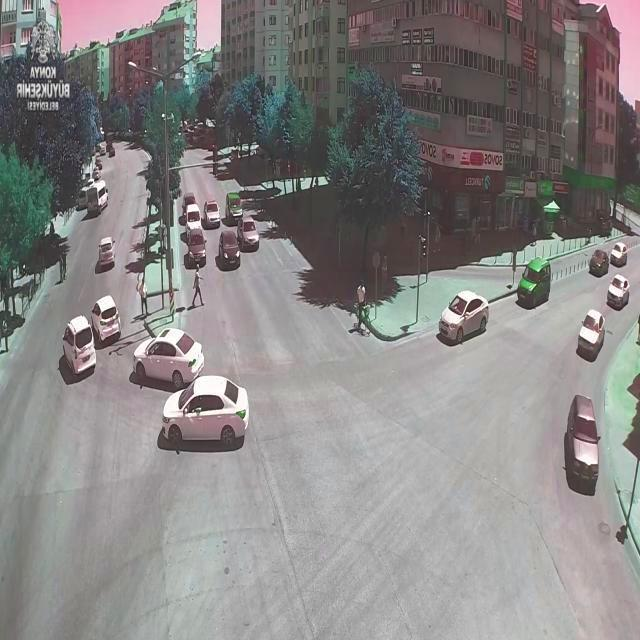Car: (161, 376, 249, 445), (133, 328, 206, 387), (566, 392, 602, 484), (440, 290, 490, 341), (62, 316, 96, 376), (518, 257, 551, 307), (91, 295, 121, 343), (578, 310, 606, 359), (78, 178, 107, 214), (219, 228, 241, 265), (607, 274, 630, 309), (237, 215, 260, 250), (186, 227, 207, 265), (97, 236, 115, 268), (589, 249, 609, 277), (202, 199, 221, 228), (185, 202, 202, 233), (226, 192, 243, 220), (610, 242, 628, 268), (78, 187, 90, 211), (183, 192, 198, 211), (86, 178, 95, 187), (96, 159, 102, 168)
